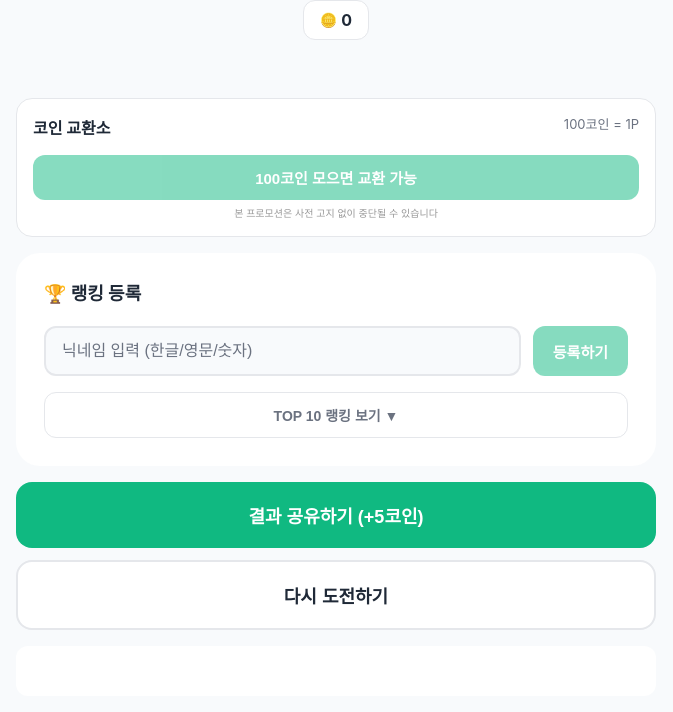
ResultPage › 랭킹 목록 표시 › should show negative balance in different style
(page scrolled)
Click the button "TOP 10 랭킹 보기 ▼".
click(336, 415)  # box [44, 392, 628, 438]
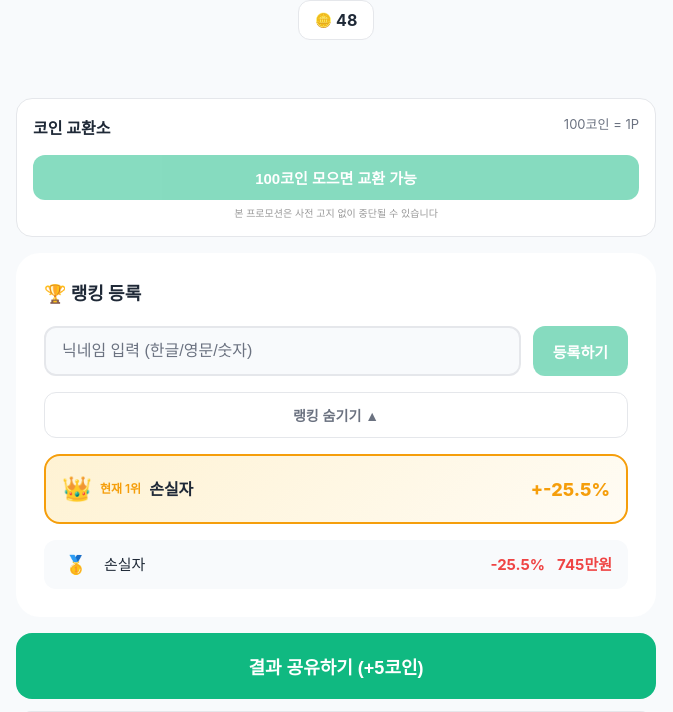
Now the text "745만원" is shown, box [557, 554, 612, 575]
